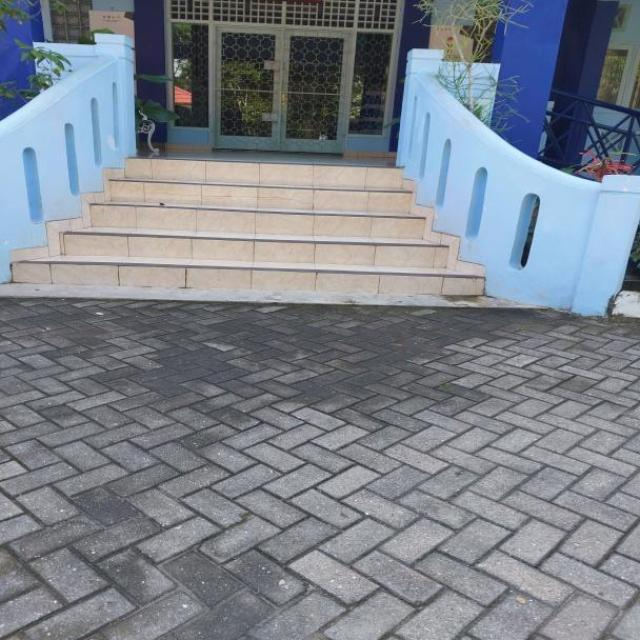stairs ahead at: (9, 168, 485, 296)
